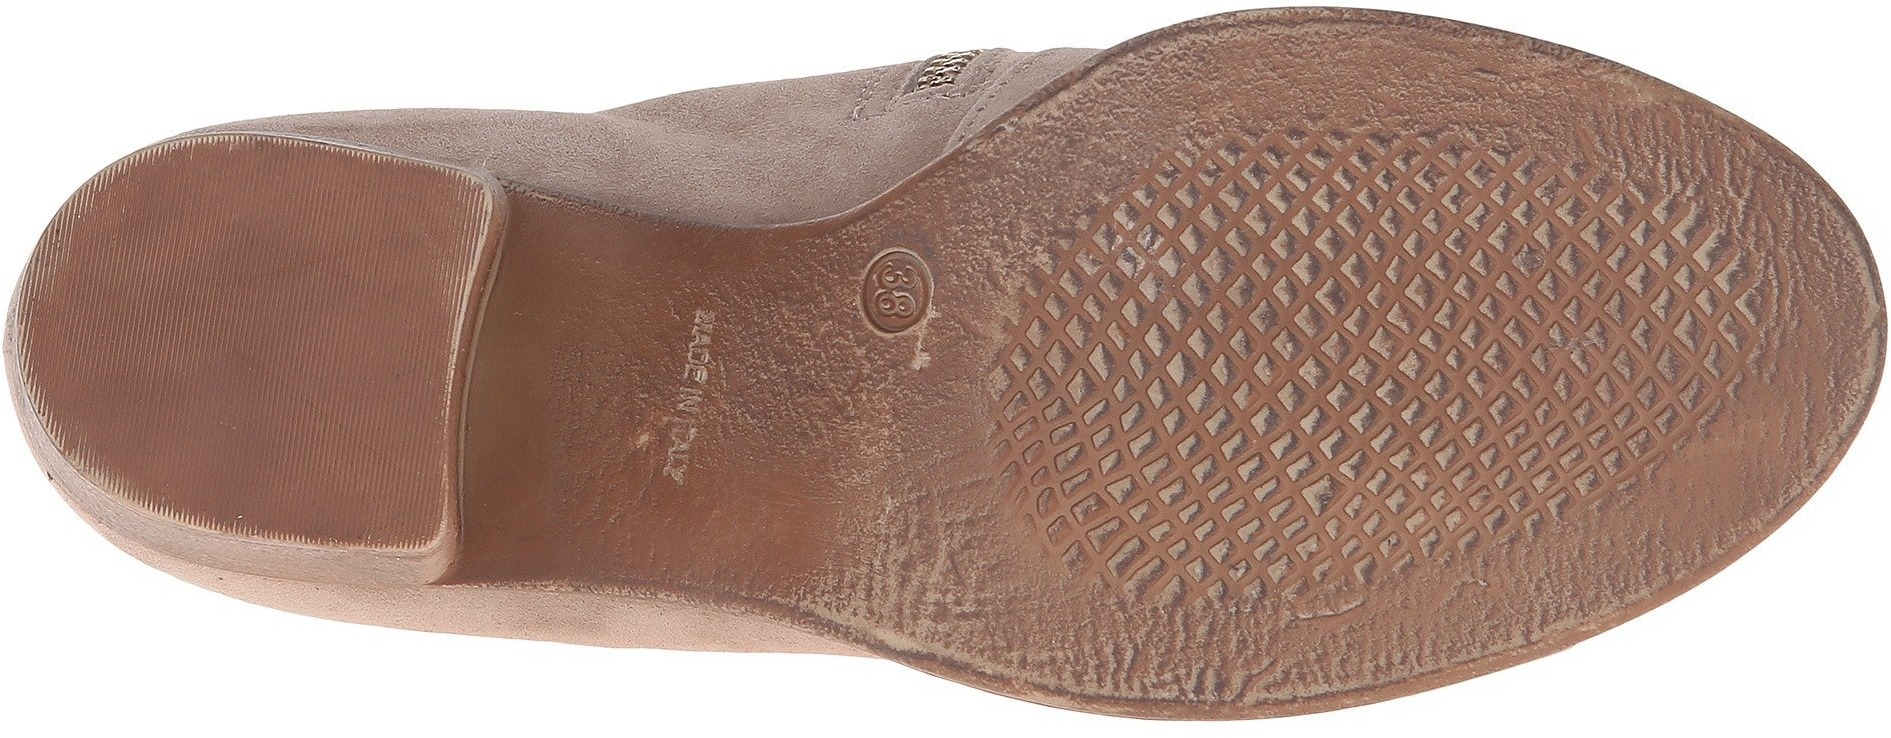other: (71, 159, 478, 512)
quad: (1429, 191, 1699, 435)
